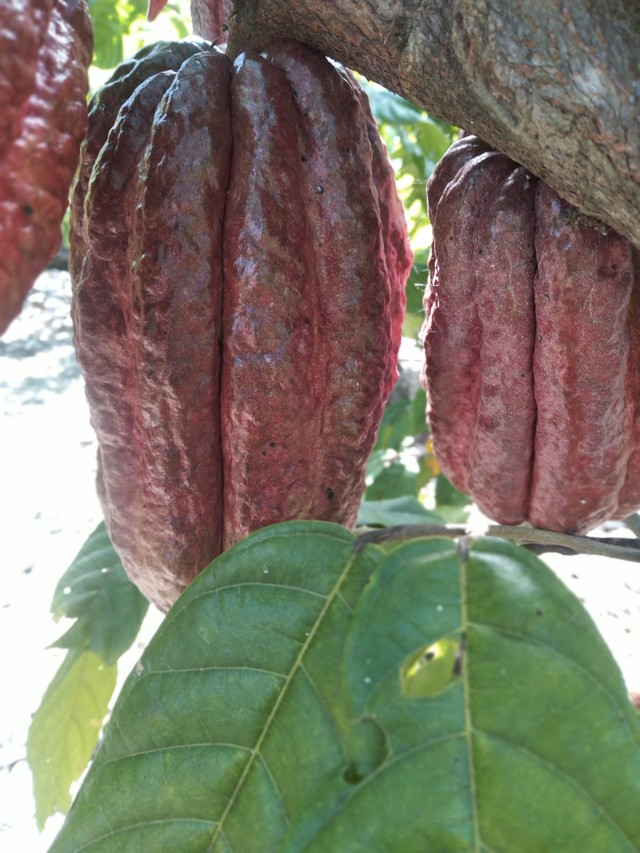Health: (44, 23, 421, 637)
